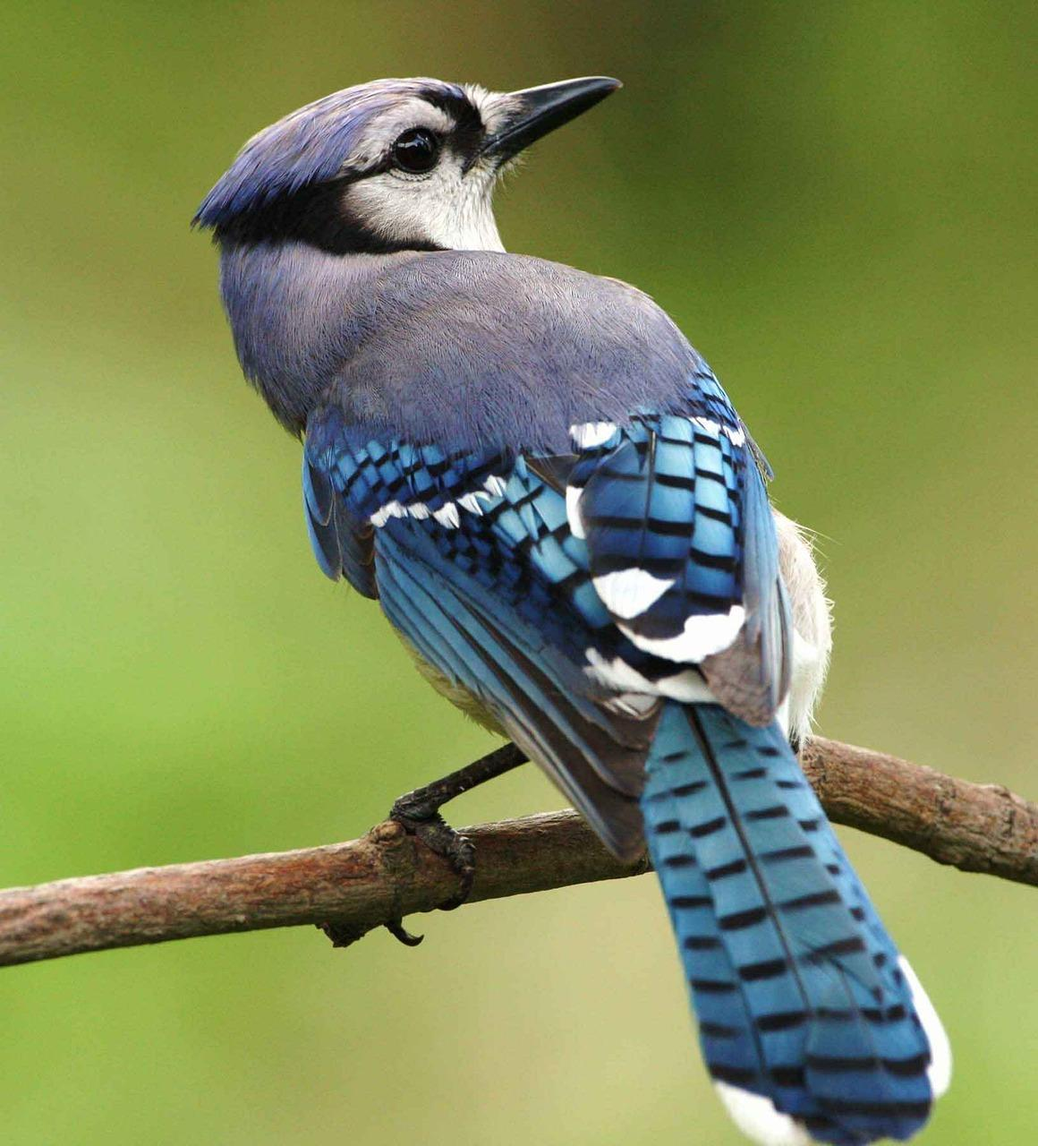bird: (193, 77, 950, 1145)
